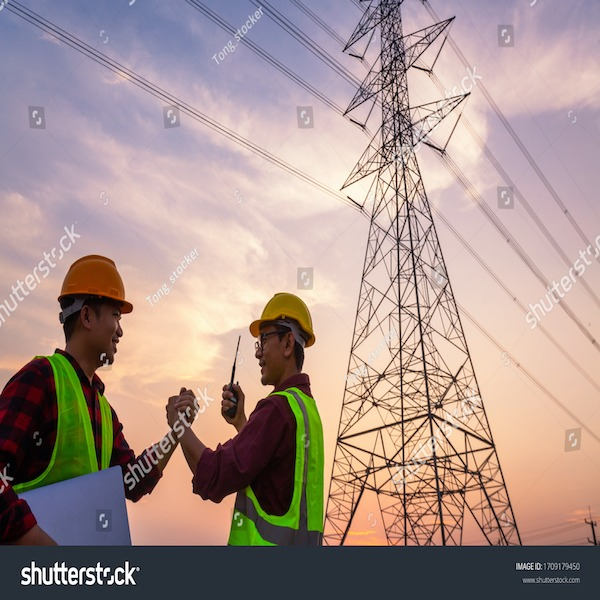helmet: (58, 249, 136, 310), (253, 288, 321, 330)
vest: (227, 391, 329, 543), (44, 355, 120, 504)
